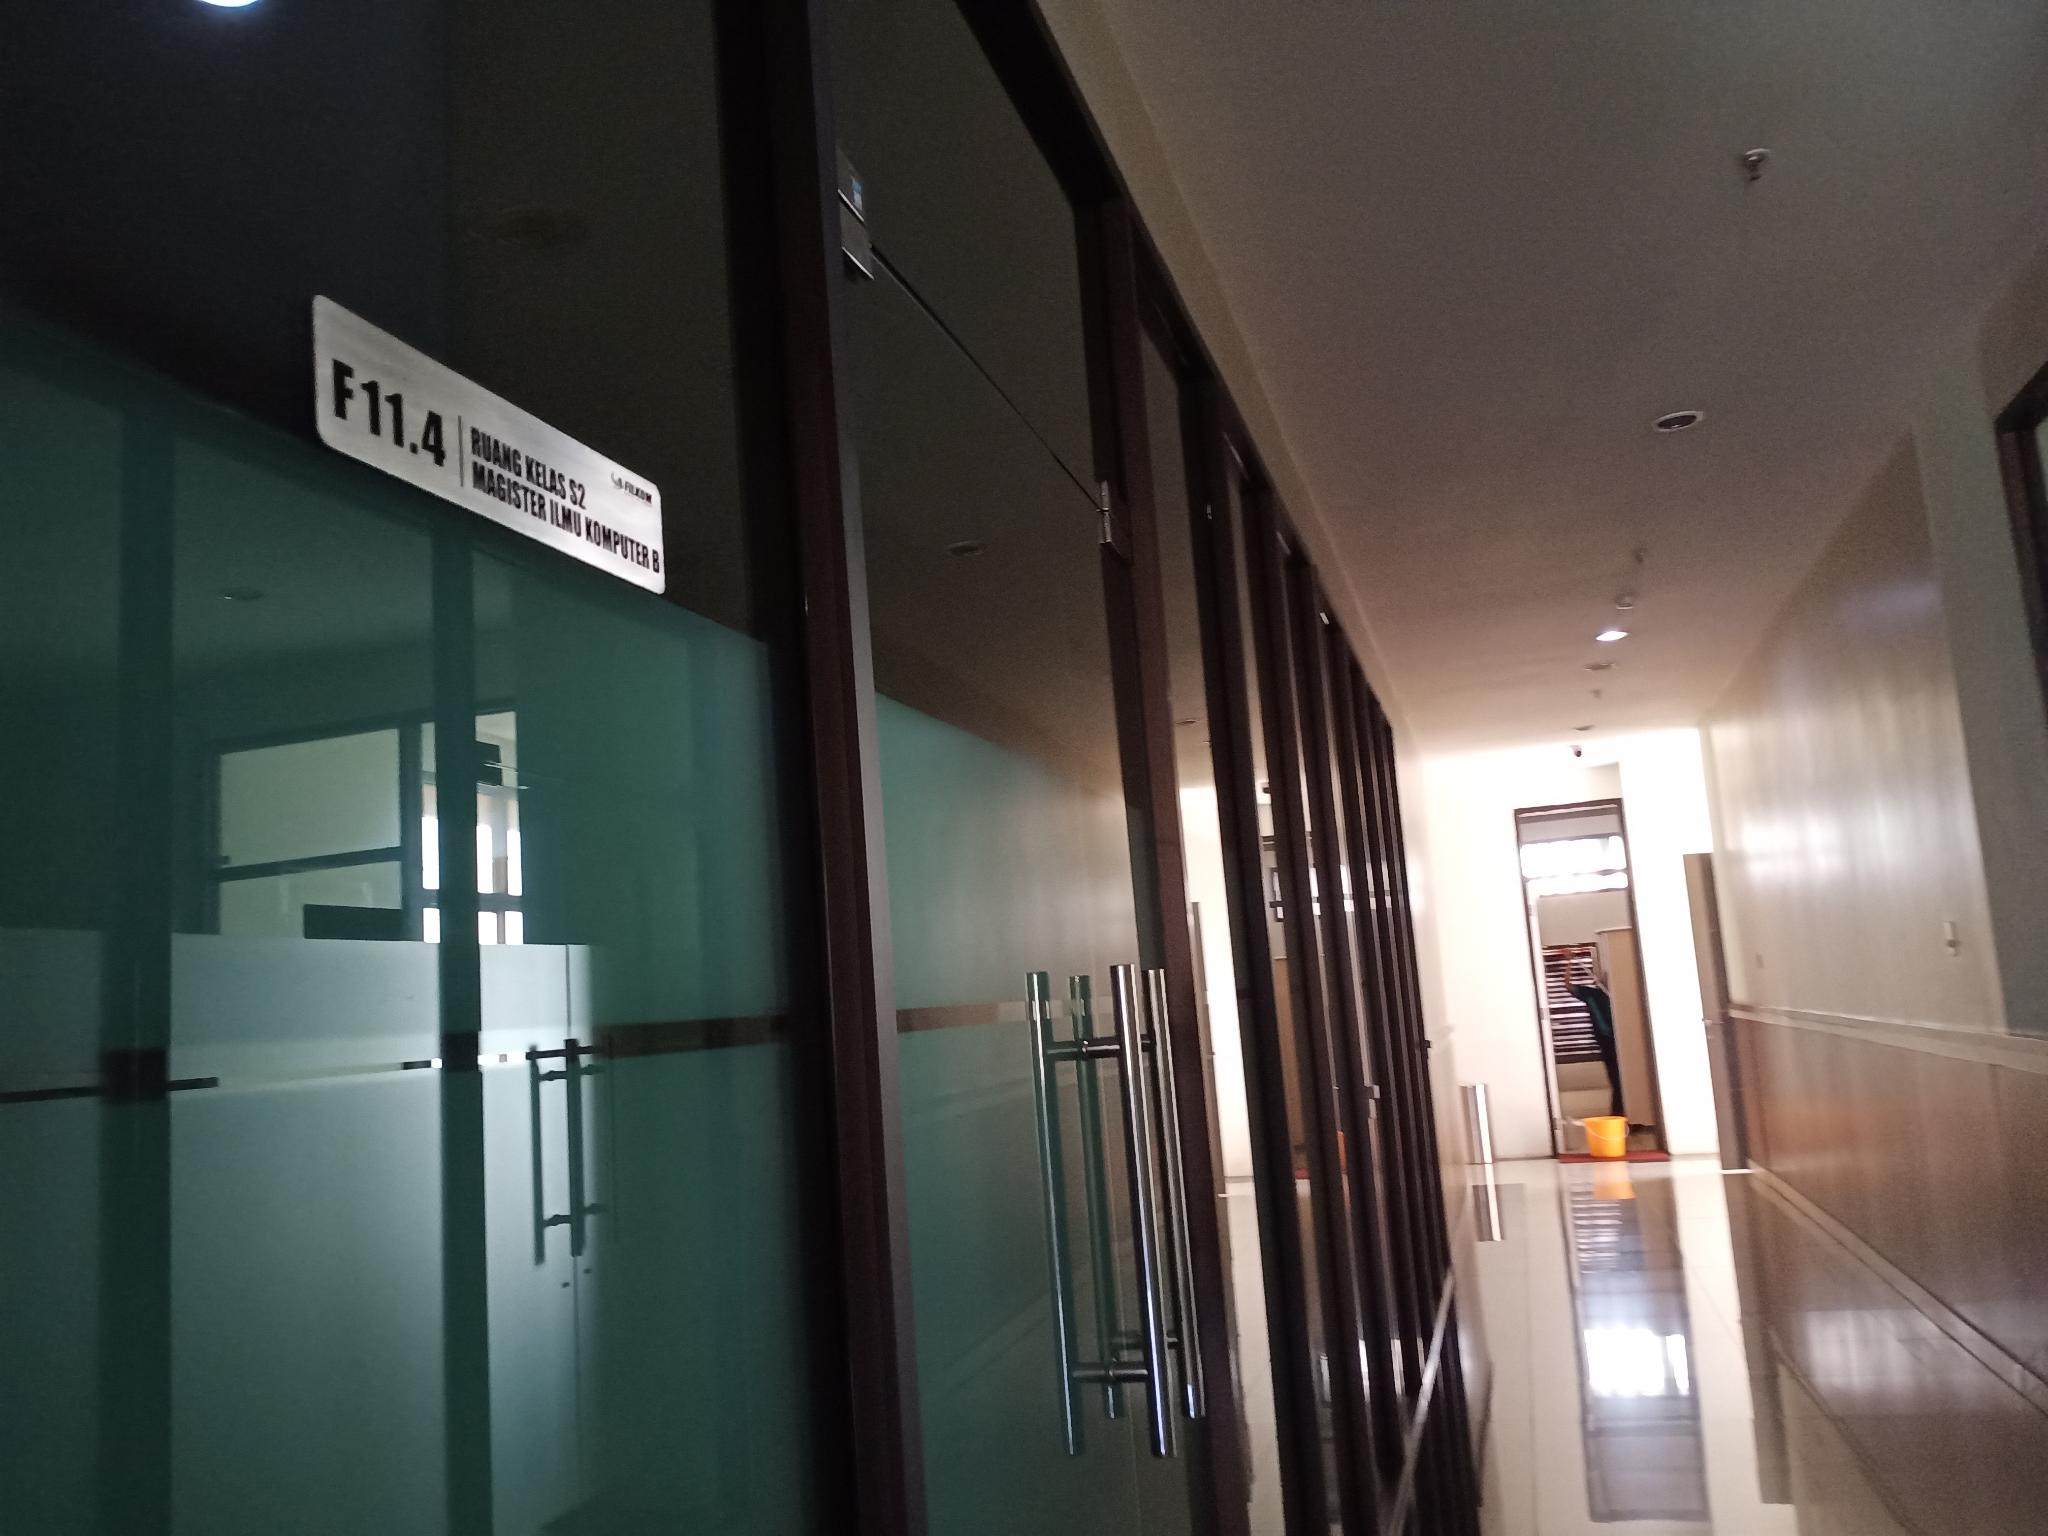plate: (308, 286, 664, 600)
